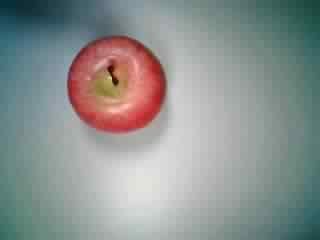apple: (66, 36, 170, 137)
